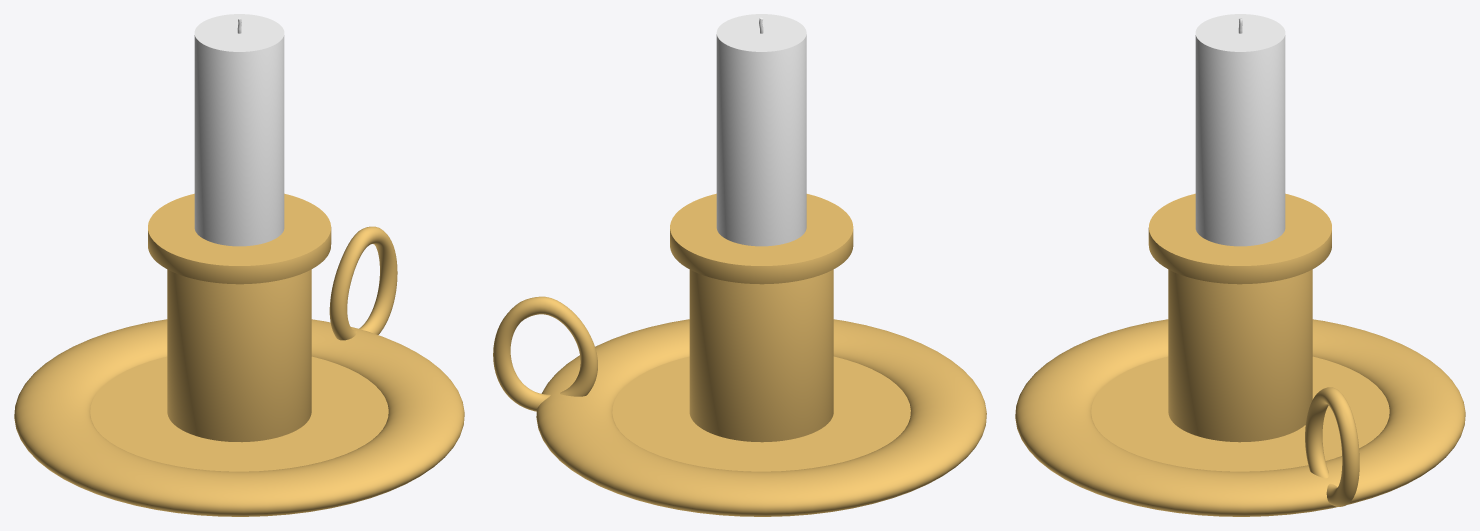
The model's file is candle-tavern.glb.
The picture shows the model from 3 angles, left to right: view 1: azimuth 30°, elevation 25°; view 2: azimuth 150°, elevation 25°; view 3: azimuth 270°, elevation 25°; orthographic projection.
Parts seen in each view (by area): view 1: Cylinder; view 2: Cylinder; view 3: Cylinder.
Part boxes in pixels (box(x1,y1,x2,y2)): Cylinder: box(14, 14, 464, 516); Cylinder: box(493, 14, 986, 516); Cylinder: box(1015, 14, 1465, 516).
Size of the model in its own units: 5.61 by 5.44 by 5.38.
